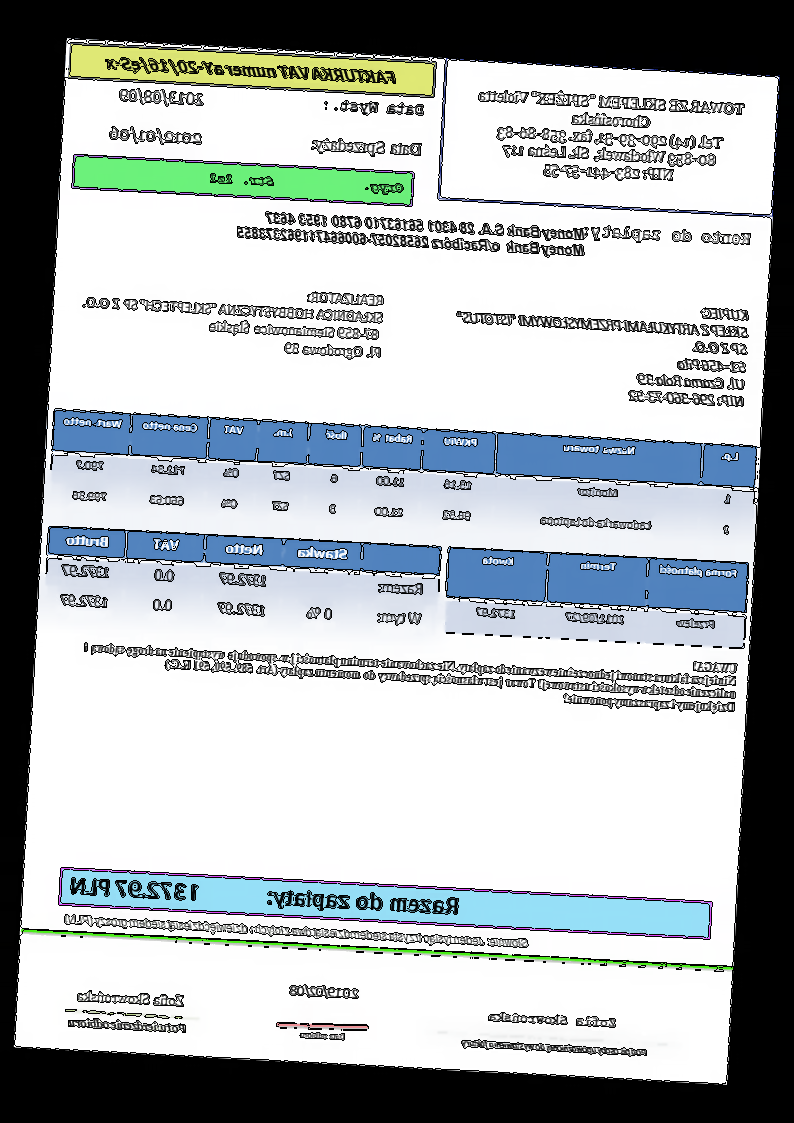Table: (46, 406, 759, 551), (42, 524, 443, 640), (442, 545, 750, 651)
TextBox: (77, 623, 742, 717), (449, 291, 753, 414), (469, 83, 752, 193), (77, 274, 390, 364), (68, 868, 465, 922), (62, 909, 532, 952), (234, 207, 590, 259), (98, 49, 400, 88), (205, 165, 407, 197), (582, 221, 756, 251), (458, 1036, 650, 1058), (310, 133, 427, 160), (485, 1007, 619, 1030), (320, 93, 429, 120), (70, 986, 187, 1010), (107, 121, 207, 148), (115, 82, 207, 110), (65, 1016, 191, 1035), (286, 980, 362, 1002), (297, 1026, 349, 1046)
